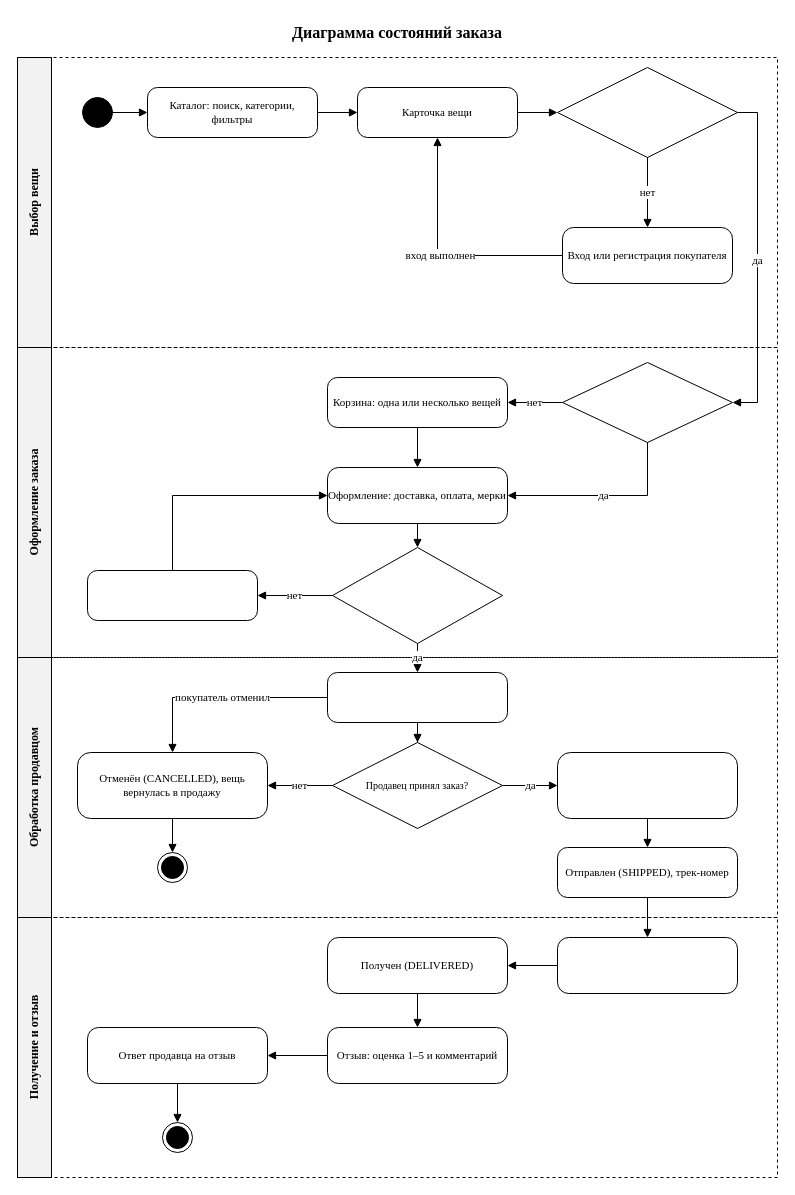
This 795x1195 diagram has some shape labels left out. Here are the shapes that lost their labels. From the top down, the centre of each, then its label:
pixel 647 112: Вход выполнен как покупатель?
pixel 647 402: Купить сейчас?
pixel 172 595: Сообщение об ошибке
pixel 417 595: Вещь в наличии, данные заполнены?
pixel 417 697: Ждёт подтверждения (NEW)
pixel 647 785: Принят (ACCEPTED): сборка или пошив по меркам
pixel 647 965: Покупатель подтверждает получение
